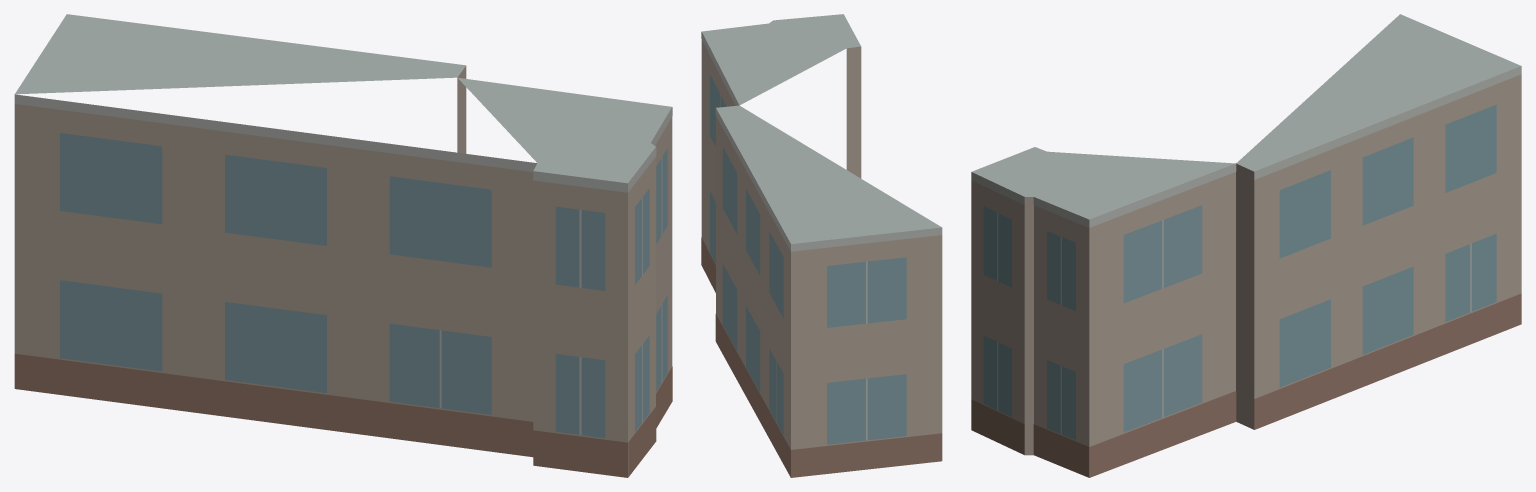
The model's file is survey-upis-32485199.glb.
3 views of the same model, side by side, from view 1: azimuth 30°, elevation 25°; view 2: azimuth 150°, elevation 25°; view 3: azimuth 270°, elevation 25° (orthographic). The views are drawn at different scales.
Parts seen in each view (by area): view 1: survey-upis-32485199.tmp; view 2: survey-upis-32485199.tmp; view 3: survey-upis-32485199.tmp.
Part boxes in pixels (x1,y1,x2,y2): survey-upis-32485199.tmp: [14, 14, 672, 477]; survey-upis-32485199.tmp: [701, 14, 942, 477]; survey-upis-32485199.tmp: [971, 14, 1521, 477].
Size of the model in its own units: 12.99 by 7.6 by 14.68.
